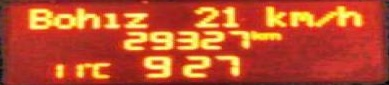1: (220, 5, 241, 27), (48, 61, 66, 79), (71, 61, 84, 80)
2: (179, 53, 210, 78), (191, 5, 218, 27), (199, 28, 225, 49), (121, 30, 147, 49)
3: (174, 28, 197, 49)
7: (213, 53, 243, 78), (228, 29, 248, 50)
9: (140, 53, 171, 79), (147, 29, 174, 50)
X: (332, 4, 363, 26), (74, 6, 100, 30), (25, 7, 51, 31), (262, 4, 287, 27), (122, 10, 150, 28), (287, 8, 313, 27), (100, 10, 121, 30), (90, 61, 113, 79), (51, 11, 72, 30), (313, 10, 334, 27), (261, 30, 280, 40), (249, 28, 261, 40)
